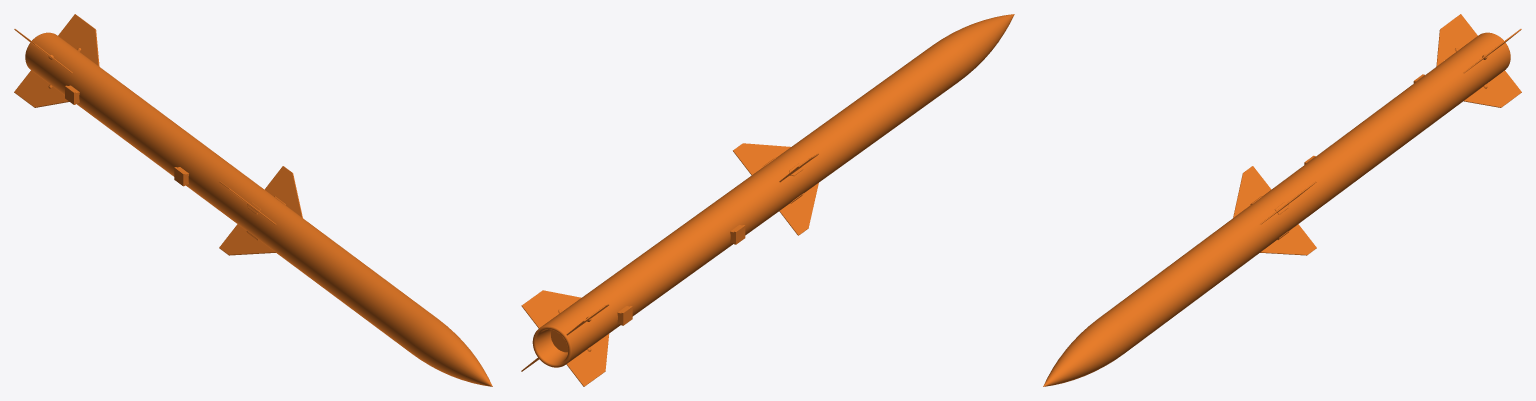
The model's file is Aim120.glb.
3 renders of one model, left to right at view 1: azimuth 30°, elevation 25°; view 2: azimuth 150°, elevation 25°; view 3: azimuth 330°, elevation 25°, orthographic. The views are drawn at different scales.
Size of the model in its own units: 0.3059 by 0.3112 by 3.7.
